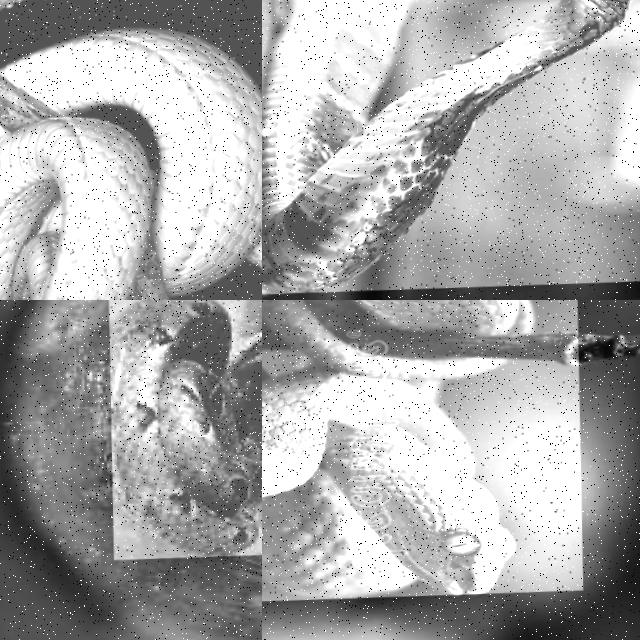Calloselasma rhodostoma: (110, 300, 261, 554)
Ophiophagus hannah: (262, 0, 630, 291)
Trimeresurus: (0, 29, 261, 299)
Trimeresurus macrops: (262, 300, 512, 596)
